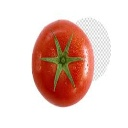tomato: (32, 18, 95, 107)
